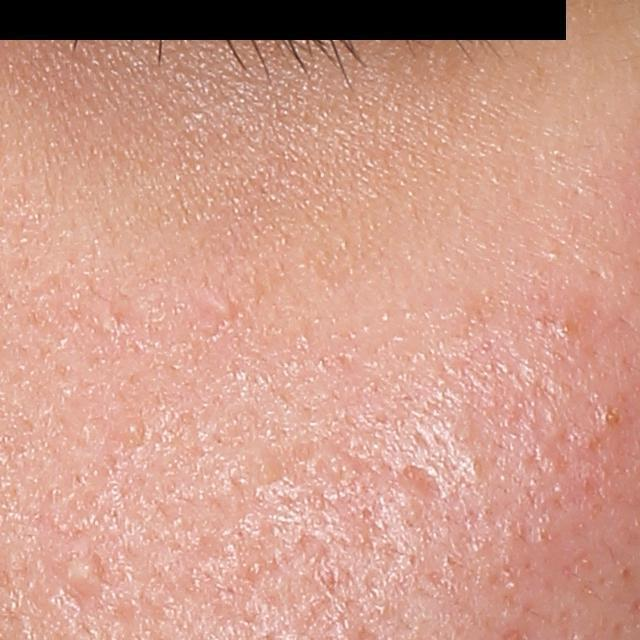atrophic_scar: (399, 460, 443, 500)
comedo: (596, 402, 629, 430), (120, 415, 146, 441)
